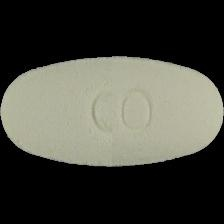66116-393: (0, 0, 224, 224)
